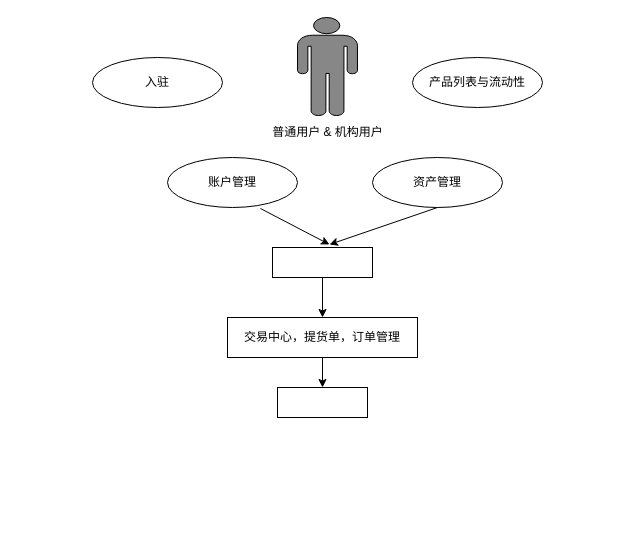
This 644x555 diagram has some shape labels left out. The centre of each missing label's shape, as x and y in pixels:
入金: pixel 322 262
出金: pixel 322 402
